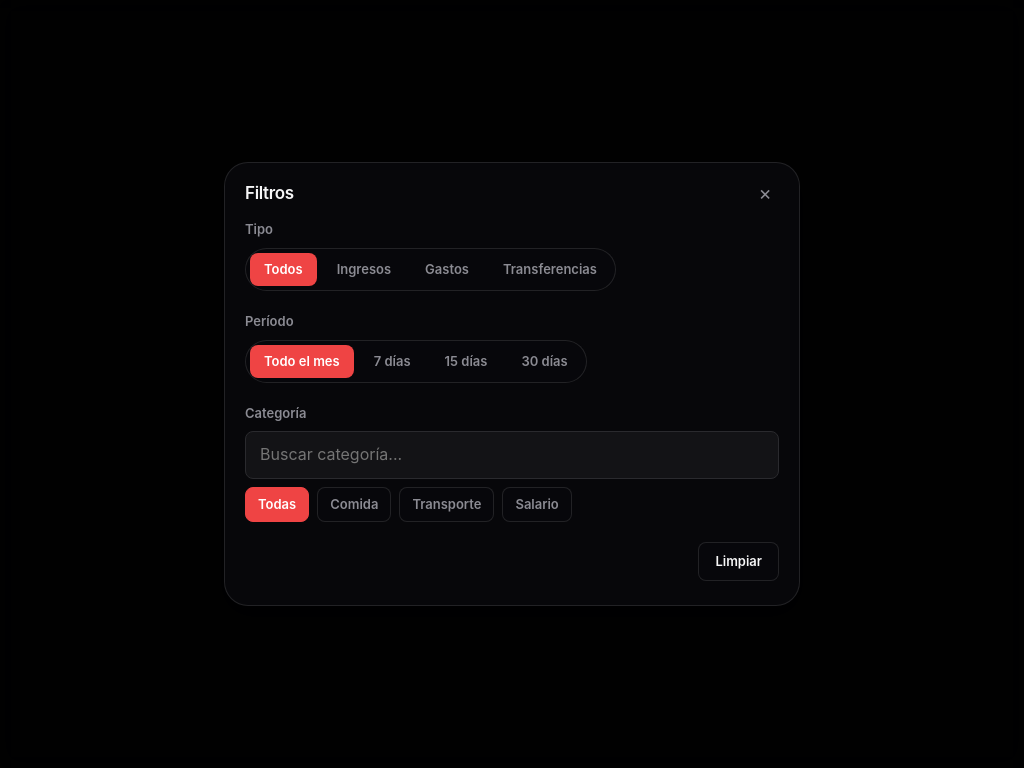
Test: TransactionsFilterSheet › filtra los chips de categoria por la busqueda
The width and height of the screenshot is (1024, 768).
Type "trans" into the search field with class "category-search" at (512, 455), box [245, 431, 779, 479]
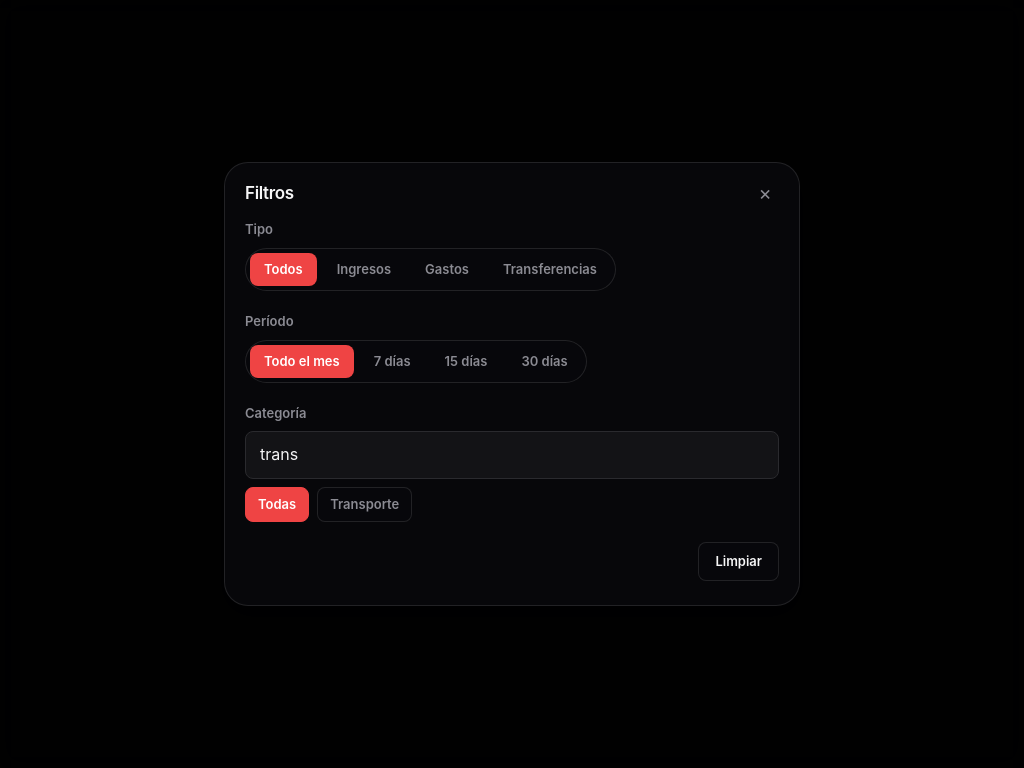
Expected: the elements with class "category-chip" read "Todas", "transporte", in this order, [245, 487, 309, 522]; [317, 487, 412, 522]
